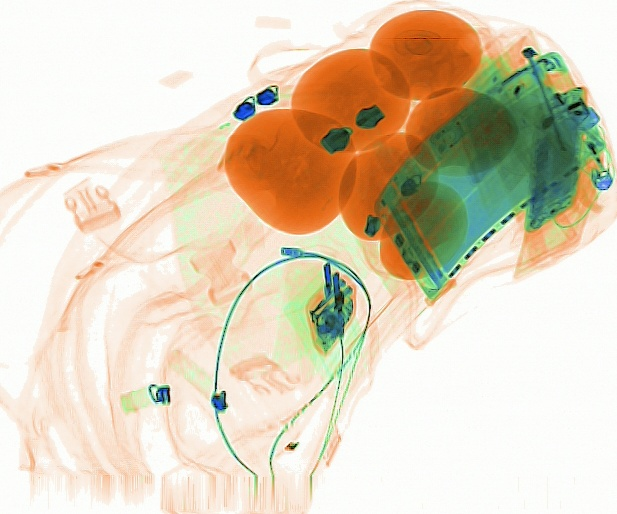lighter: (568, 106, 610, 187)
